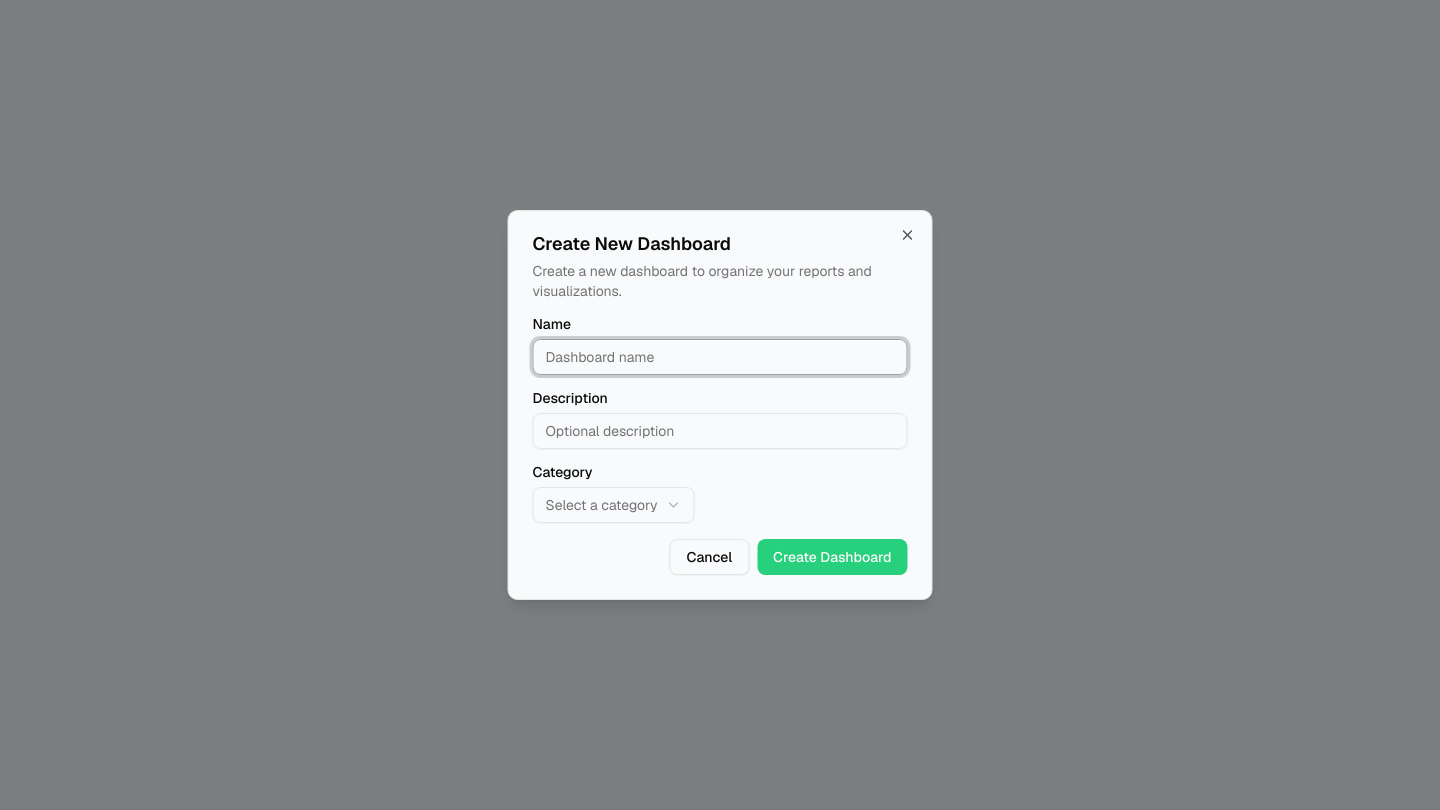
Test case: CreateDashboardDialog › shows validation errors when name is empty and form is submitted
# Submit the form without filling required fields
Click the button "Create Dashboard": (832, 557) [757, 539, 908, 575]
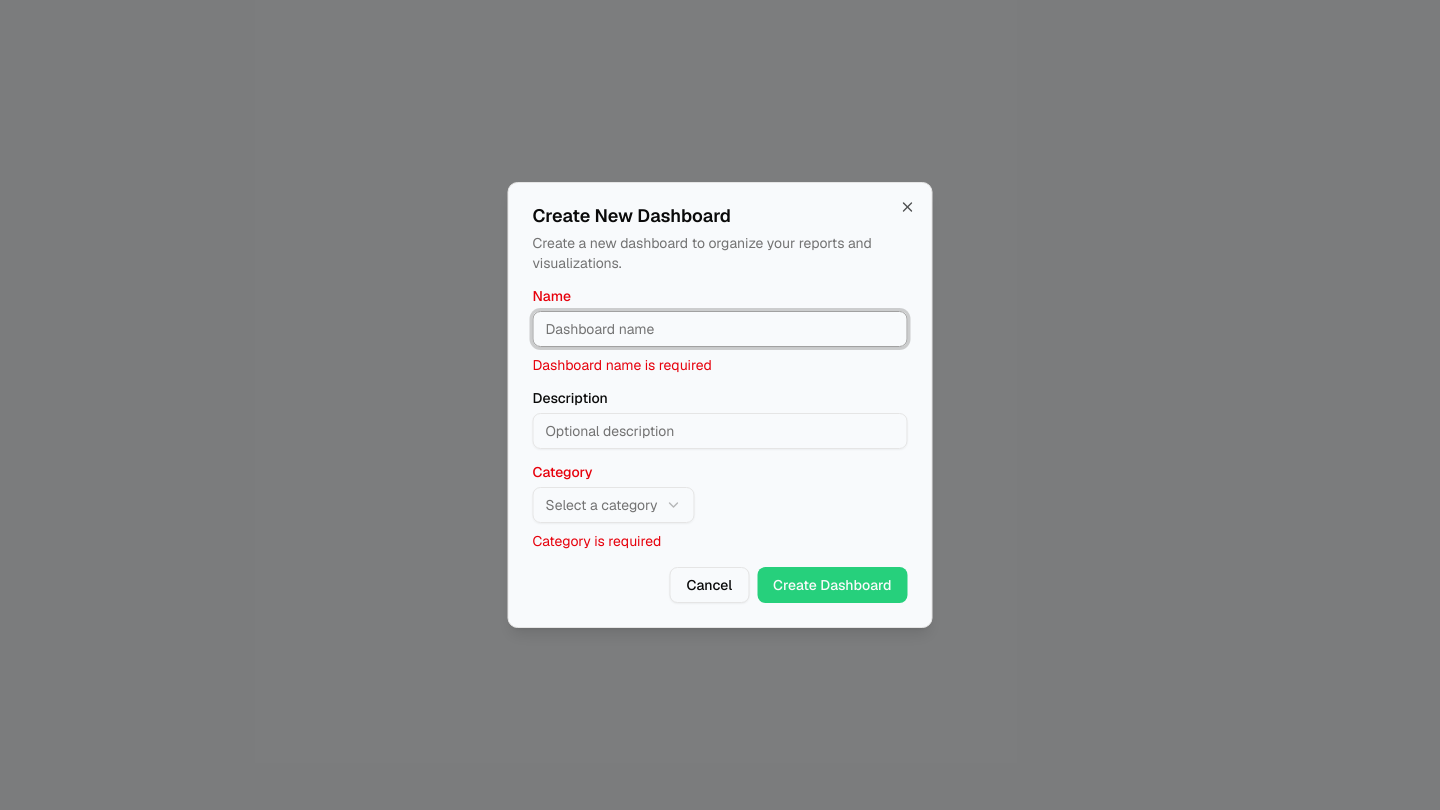
Expected: the text "Dashboard name is required" is shown, [532, 356, 712, 374]
